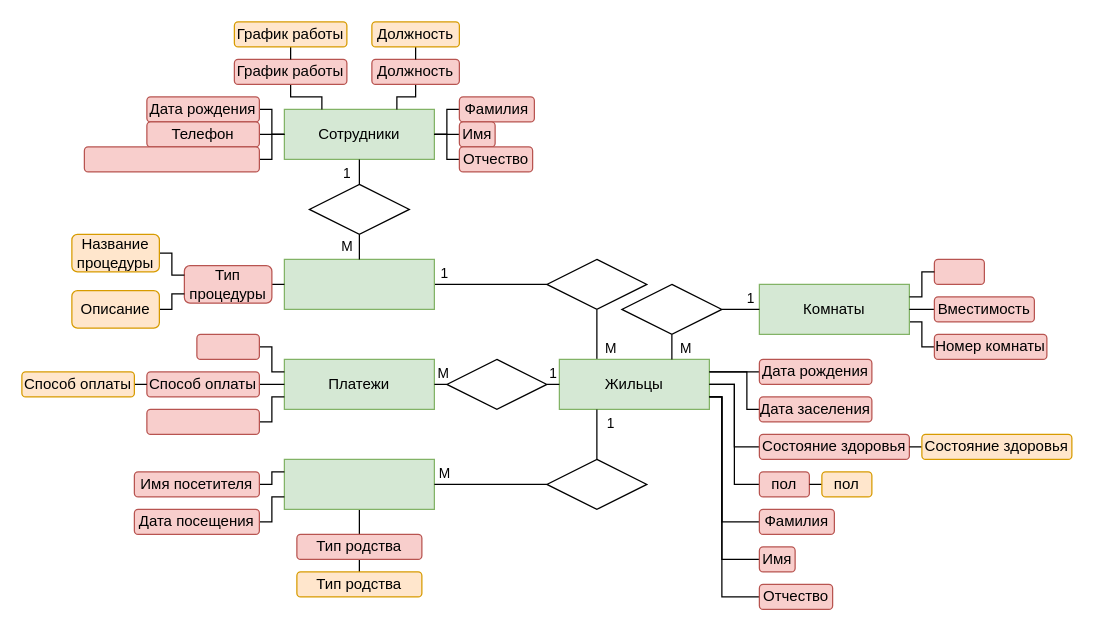
Some shapes in this 1094 by 631 pixel diagram are drawn without their labels. Each missing label, with the box of its shape:
Дата платежа: (146, 408, 259, 434)
Дата приема на работу: (83, 146, 259, 172)
Живут: (621, 283, 722, 334)
Медицинские процедуры: (283, 258, 434, 309)
Платят: (446, 358, 547, 409)
Посещают: (546, 458, 647, 509)
Посещения: (283, 458, 434, 509)
Проводят: (308, 183, 409, 234)
Проходят: (546, 258, 647, 309)
Сумма: (196, 333, 259, 359)
Этаж: (933, 258, 984, 284)
